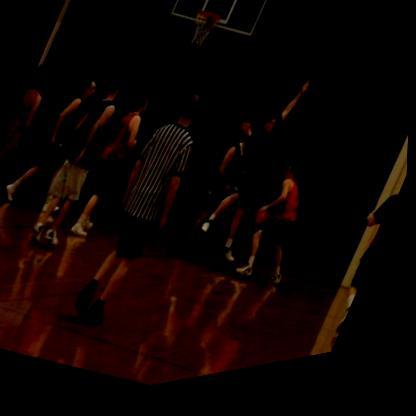basketball: (252, 214, 274, 242)
